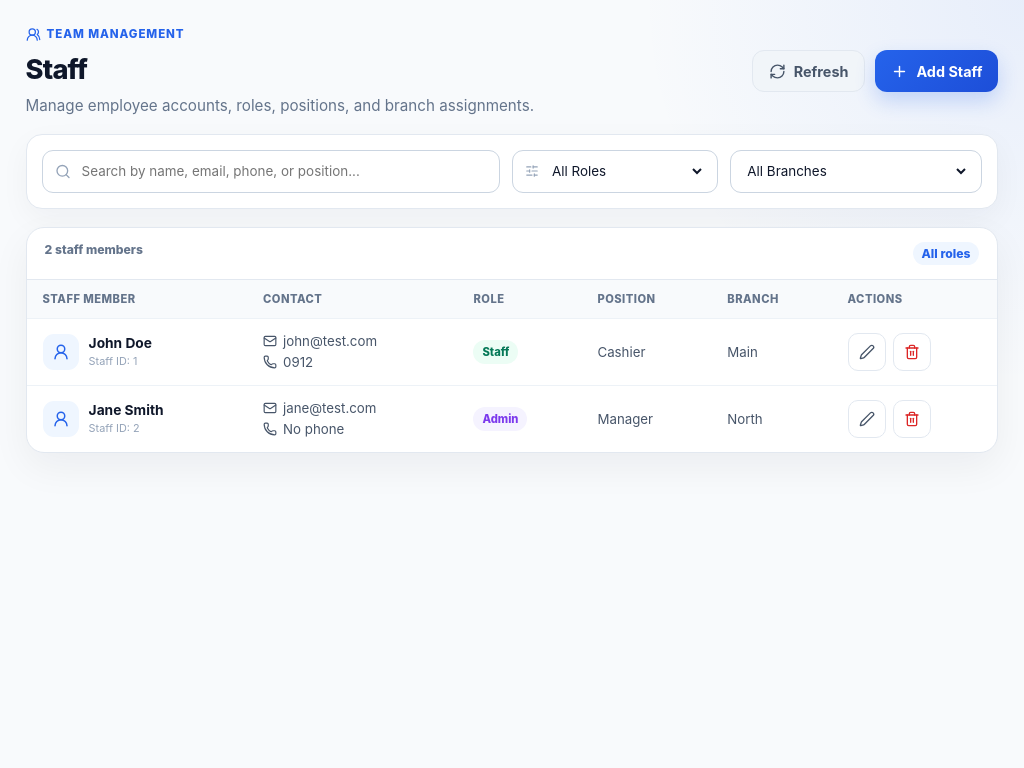
opens add staff and handles loading errors
Expected: the text "John Doe" is shown, [89,335,152,351]
Click the button "Add Staff".
click(937, 71)  # box [876,50,998,92]
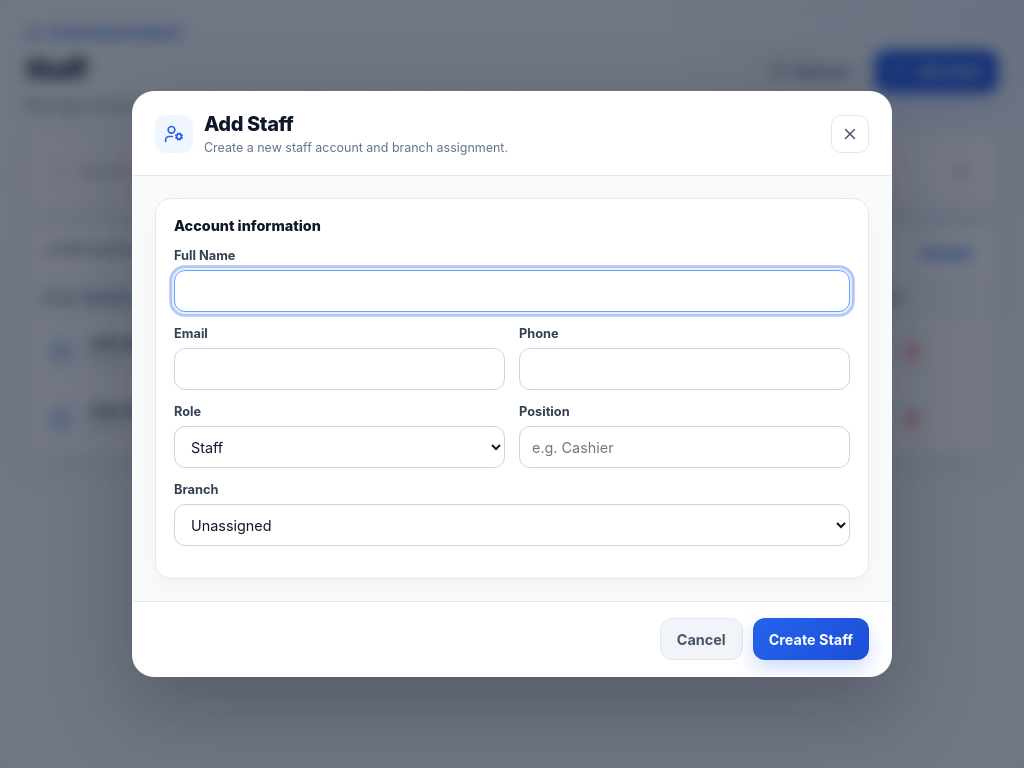
Expected: the dialog "Add Staff" is shown, [132,91,892,677]
